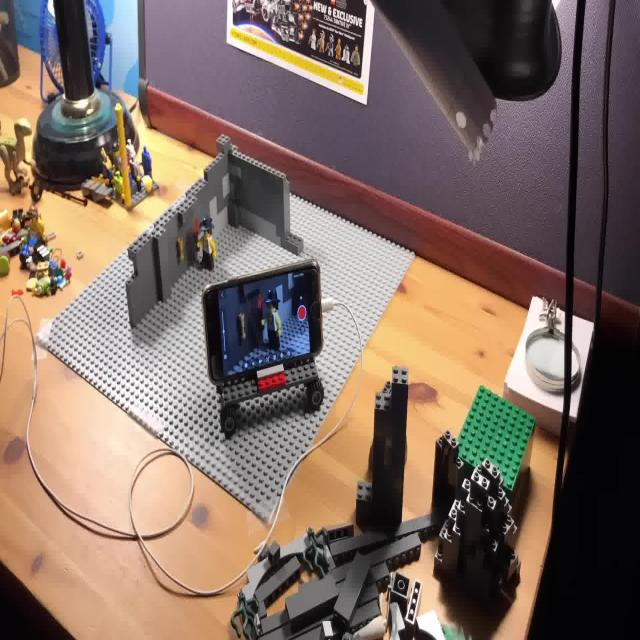4: (274, 310, 285, 337), (208, 238, 220, 260), (258, 314, 267, 332), (196, 235, 205, 252)
brick: (0, 106, 37, 208)
figure: (37, 144, 405, 528), (127, 145, 304, 326), (124, 161, 228, 329), (354, 369, 410, 537), (458, 388, 537, 498), (220, 359, 315, 403)
hand: (191, 209, 219, 281), (260, 286, 287, 351)
